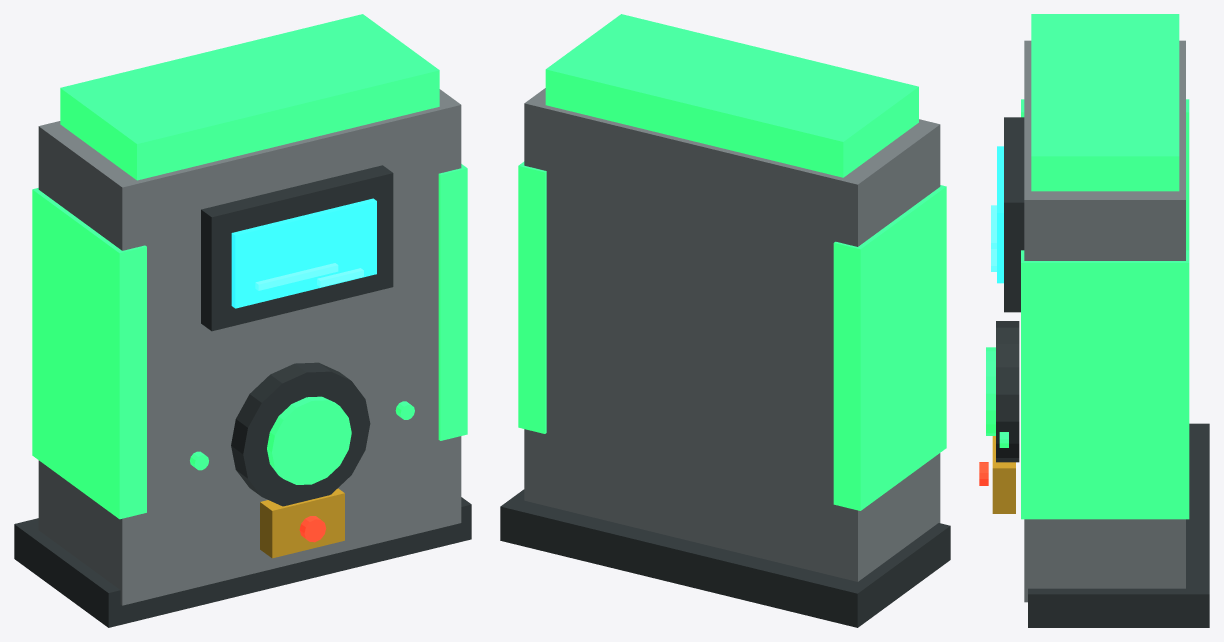
Rendered from reactor_console.glb.
3 views of the same model, side by side, from view 1: azimuth 30°, elevation 25°; view 2: azimuth 150°, elevation 25°; view 3: azimuth 270°, elevation 25° (orthographic). The views are drawn at different scales.
Parts seen in each view (by area): view 1: reactor_console_housing, reactor_console_cap, reactor_console_left_fin, reactor_console_status_bezel, reactor_console_mount_rail, reactor_console_status_glass, reactor_console_reactor_core_outer, reactor_console_right_fin, reactor_console_reactor_core_inner, reactor_console_emergency_guard, reactor_console_status_ui_bar_a; view 2: reactor_console_housing, reactor_console_cap, reactor_console_left_fin, reactor_console_mount_rail, reactor_console_right_fin; view 3: reactor_console_right_fin, reactor_console_cap, reactor_console_housing, reactor_console_mount_rail, reactor_console_status_bezel, reactor_console_reactor_core_outer, reactor_console_emergency_guard, reactor_console_status_glass, reactor_console_reactor_core_inner, reactor_console_left_fin.
Boxes of the visible parts, <box> form: reactor_console_housing: <box>38,89,461,605</box>; reactor_console_cap: <box>60,14,439,180</box>; reactor_console_left_fin: <box>32,188,146,519</box>; reactor_console_status_bezel: <box>201,165,393,331</box>; reactor_console_mount_rail: <box>14,497,471,627</box>; reactor_console_status_glass: <box>231,198,376,308</box>; reactor_console_reactor_core_outer: <box>231,362,370,506</box>; reactor_console_right_fin: <box>438,164,467,440</box>; reactor_console_reactor_core_inner: <box>267,396,351,484</box>; reactor_console_emergency_guard: <box>260,488,344,558</box>; reactor_console_status_ui_bar_a: <box>255,263,338,290</box>; reactor_console_housing: <box>524,88,940,581</box>; reactor_console_cap: <box>545,14,918,177</box>; reactor_console_left_fin: <box>833,185,946,510</box>; reactor_console_mount_rail: <box>500,489,950,627</box>; reactor_console_right_fin: <box>518,161,546,433</box>; reactor_console_right_fin: <box>1021,250,1189,519</box>; reactor_console_cap: <box>1031,14,1179,191</box>; reactor_console_housing: <box>1024,40,1185,602</box>; reactor_console_mount_rail: <box>1028,423,1209,627</box>; reactor_console_status_bezel: <box>1004,117,1024,312</box>; reactor_console_reactor_core_outer: <box>996,321,1019,462</box>; reactor_console_emergency_guard: <box>992,436,1015,513</box>; reactor_console_status_glass: <box>997,146,1003,283</box>; reactor_console_reactor_core_inner: <box>986,347,995,435</box>; reactor_console_left_fin: <box>1021,99,1189,250</box>.
Bounding box in the file's own units: 0.6 × 0.75 × 0.342.
